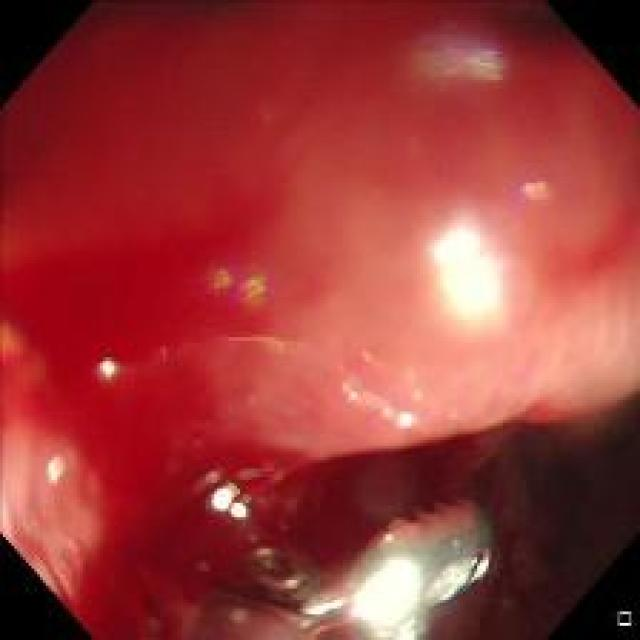color misalignment: (335, 374, 424, 430), (419, 34, 508, 88), (196, 259, 279, 310), (512, 172, 564, 215)
contrast: (471, 391, 635, 636)
instrument: (191, 492, 499, 638)
specularity: (429, 228, 504, 316), (346, 564, 420, 626), (209, 484, 252, 520), (440, 562, 470, 592), (306, 596, 349, 616), (45, 456, 66, 482), (475, 552, 490, 578), (100, 360, 115, 376)
